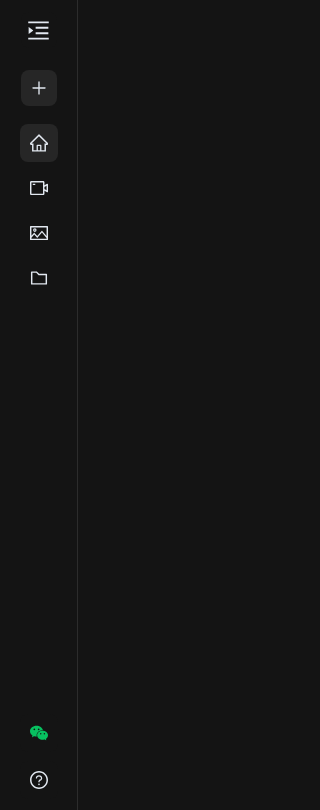
Test: Sidebar › 收起态再点击展开：data-collapsed 移除并写回 false
Click the button named "展开侧边栏". click: click(38, 30)
box: [20,12,56,48]
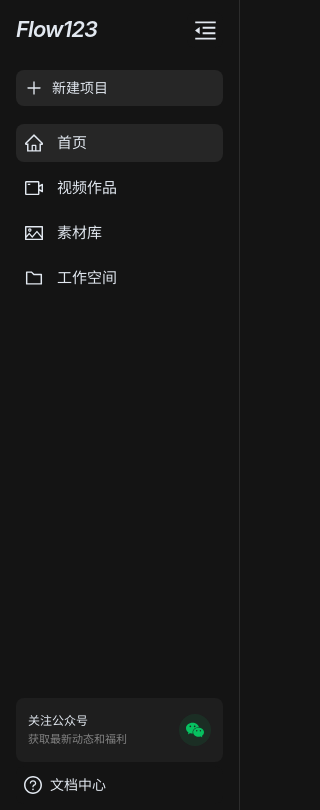
Now the element with test id "sidebar" does not have attribute data-collapsed
